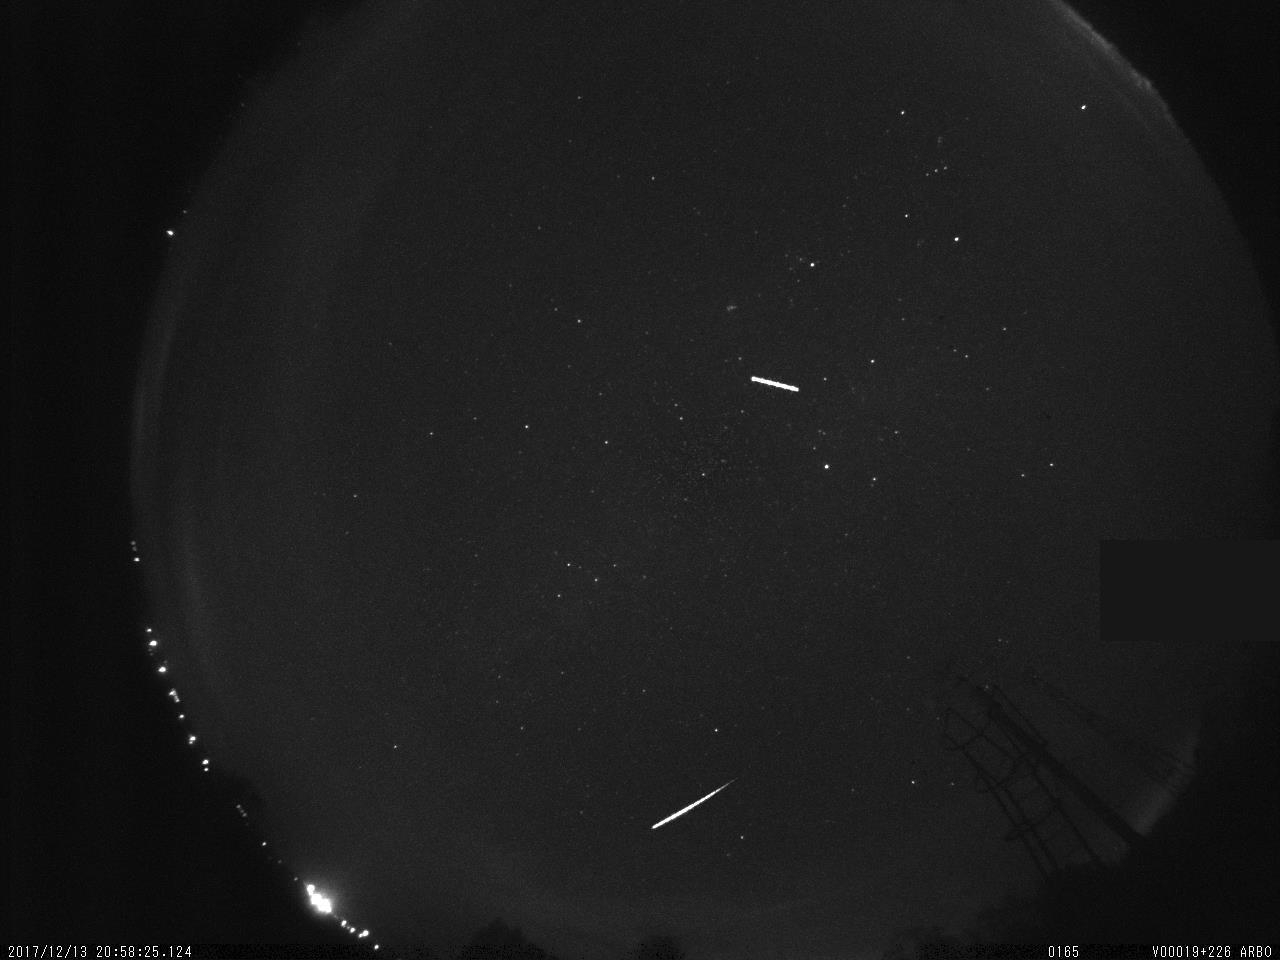meteor: (645, 766, 747, 842)
satelite: (749, 369, 806, 400)
